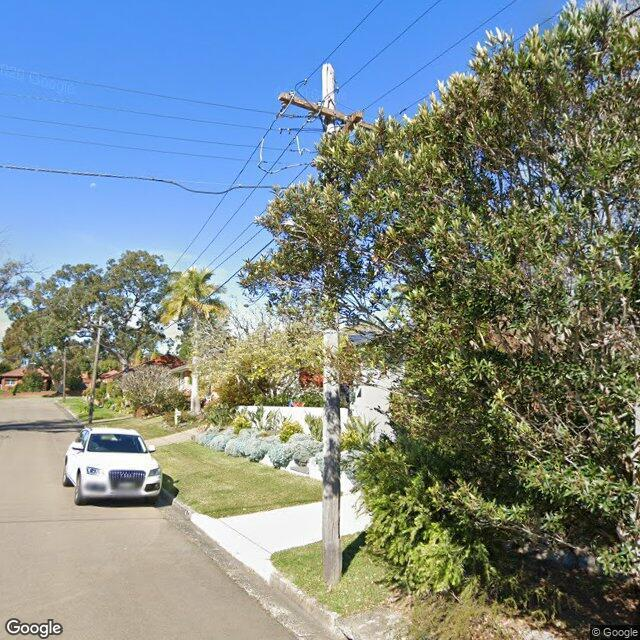crossarm: (278, 90, 382, 136), (313, 111, 364, 169)
timber-pole: (320, 62, 341, 584), (88, 314, 103, 424)
